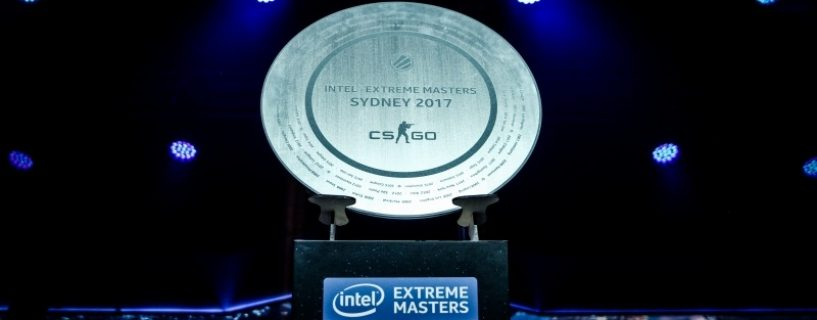trophy: (259, 4, 544, 320)
